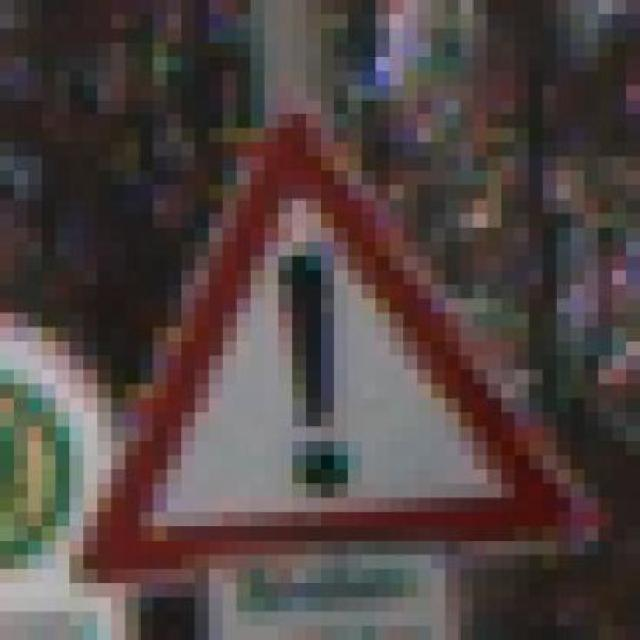Attention Please-: (29, 106, 600, 591)
